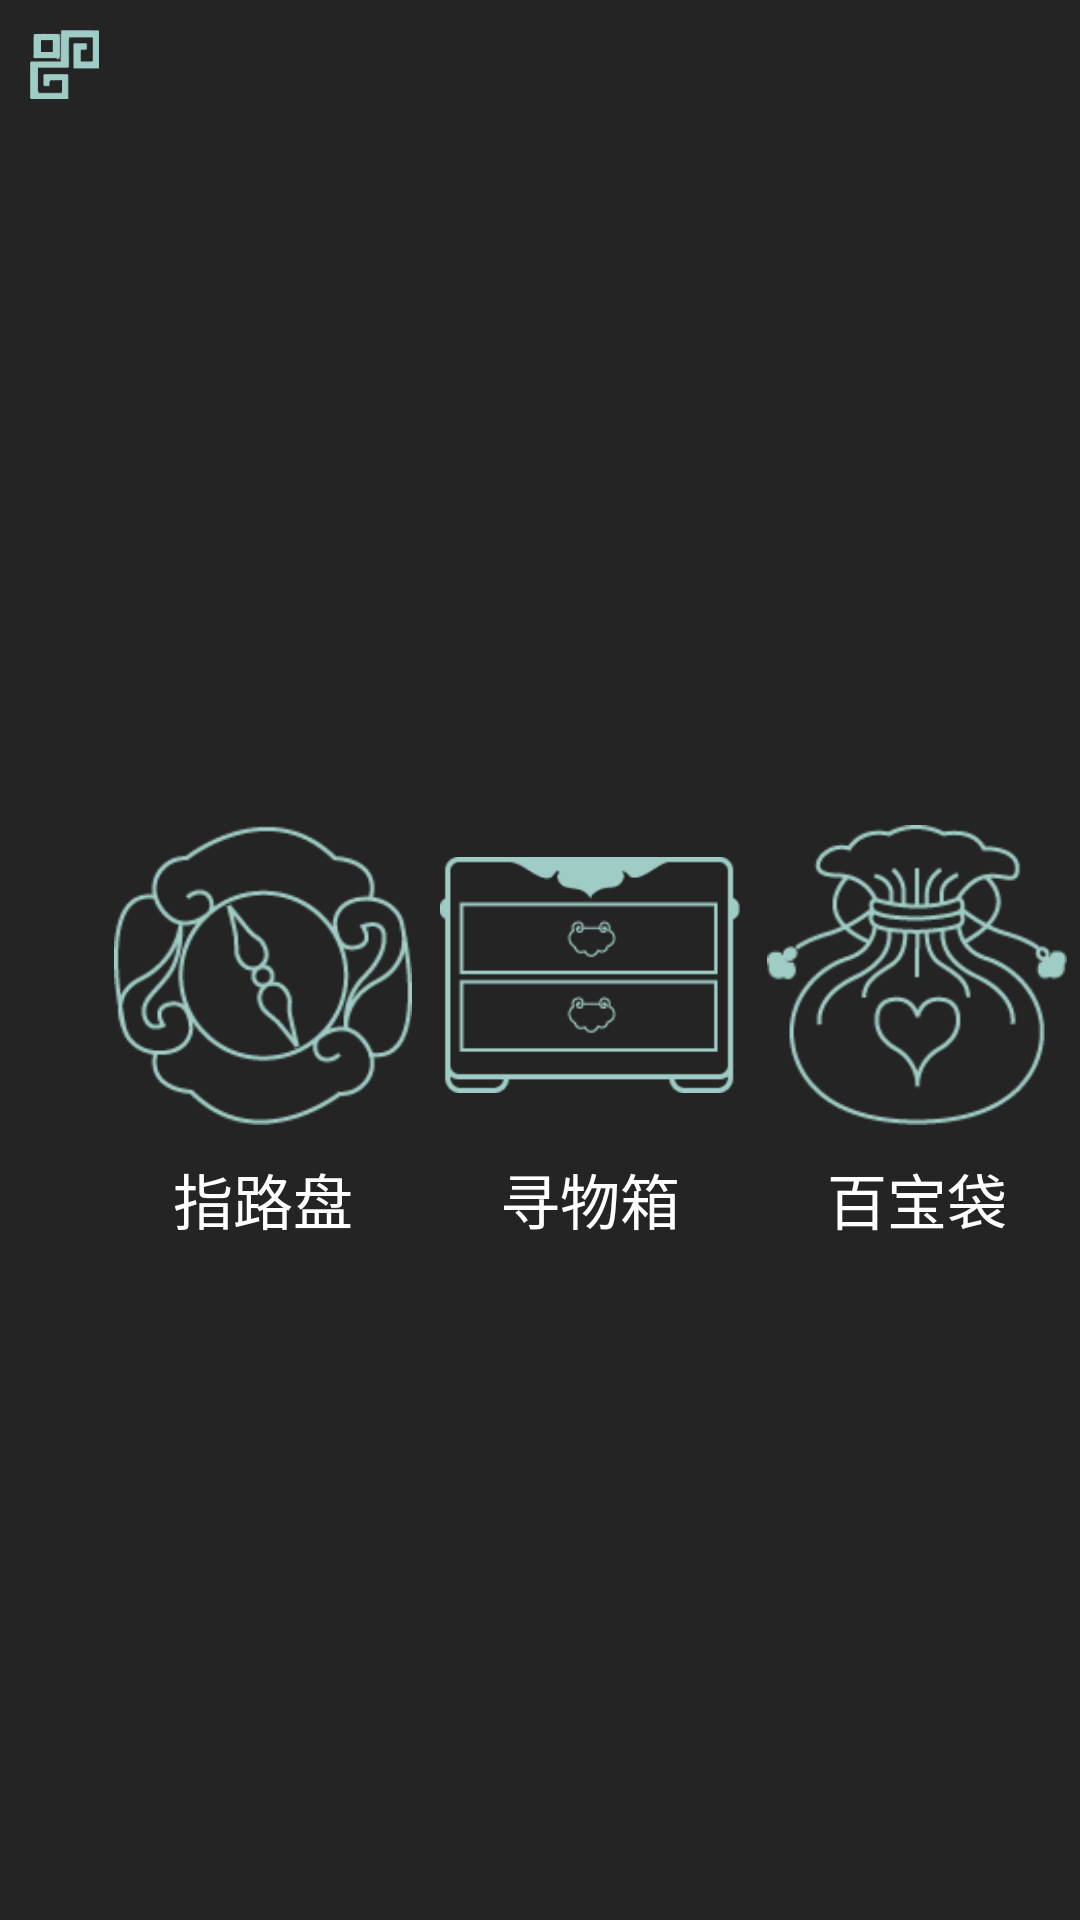

Locate icon controls on the screen. Image size 1080×1920, boxes as (x1=x1, y1=y1, x2=x2, y2=y2).
pic gifts: (x1=767, y1=825, x2=1067, y2=1125)
pic menu: (x1=30, y1=30, x2=99, y2=99)
